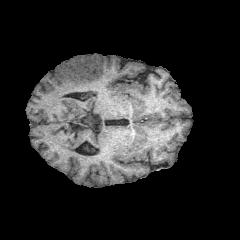glioma: (53, 54, 103, 87)
